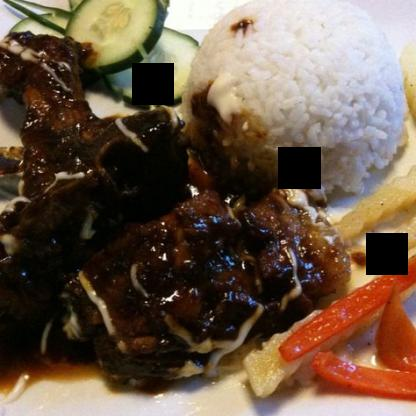cucumber: (107, 23, 202, 105), (65, 0, 164, 69)
